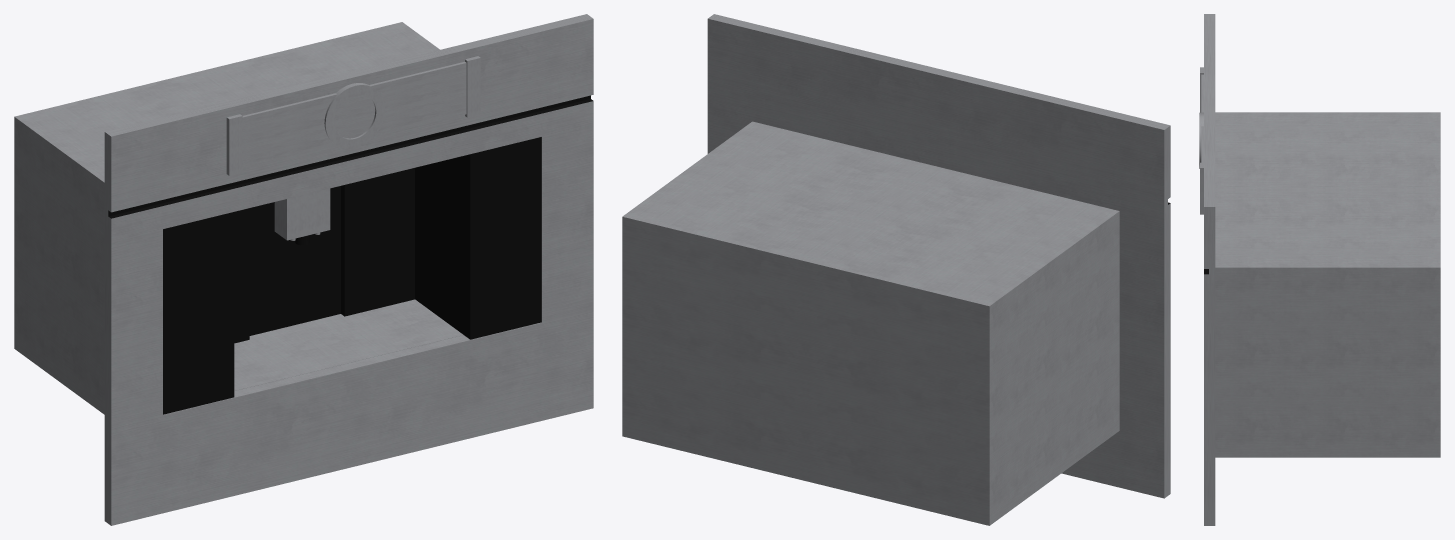
The model's file is ESPRESSO_30.glb.
The picture shows the model from 3 angles, left to right: view 1: azimuth 30°, elevation 25°; view 2: azimuth 150°, elevation 25°; view 3: azimuth 270°, elevation 25°; orthographic projection. The views are drawn at different scales.
Visible parts, largest first — view 1: Bosch_BCM845UC; view 2: Bosch_BCM845UC; view 3: Bosch_BCM845UC.
Boxes of the visible parts, <box> form: Bosch_BCM845UC: <box>14,14,593,525</box>; Bosch_BCM845UC: <box>622,14,1170,525</box>; Bosch_BCM845UC: <box>1199,14,1440,525</box>.
Bounding box in the file's own units: 756 × 583 × 399.
3 materials, 1 textured.
